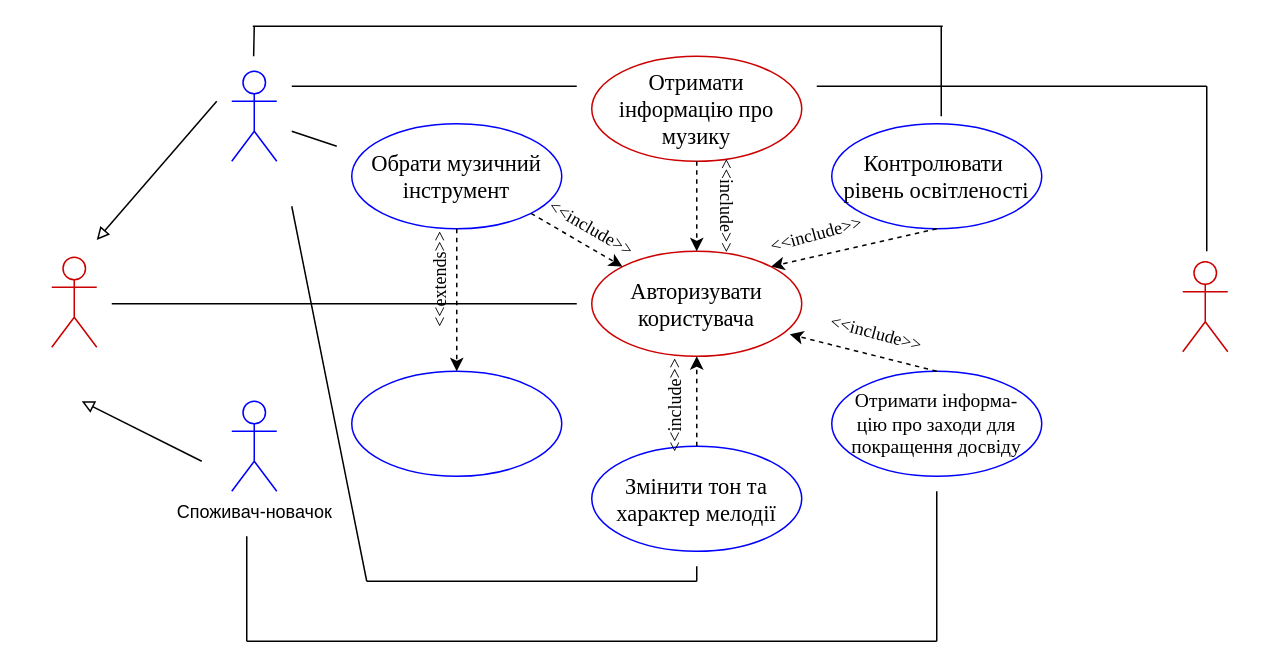
The diagram is 1277 pixels wide and 669 high, and some of its shapes have lost their labels. Each missing label, with the box of its shape:
Користувач: (50, 256, 97, 347)
отримати список пісень та інструкцію виконання обраним інструментом: (350, 370, 562, 476)
Сервіс API про музику: (1181, 260, 1228, 352)
Споживач-музикант: (230, 70, 277, 161)
